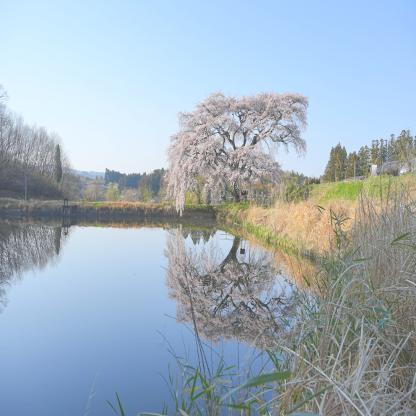EdohiganSakura: (163, 90, 310, 218)
